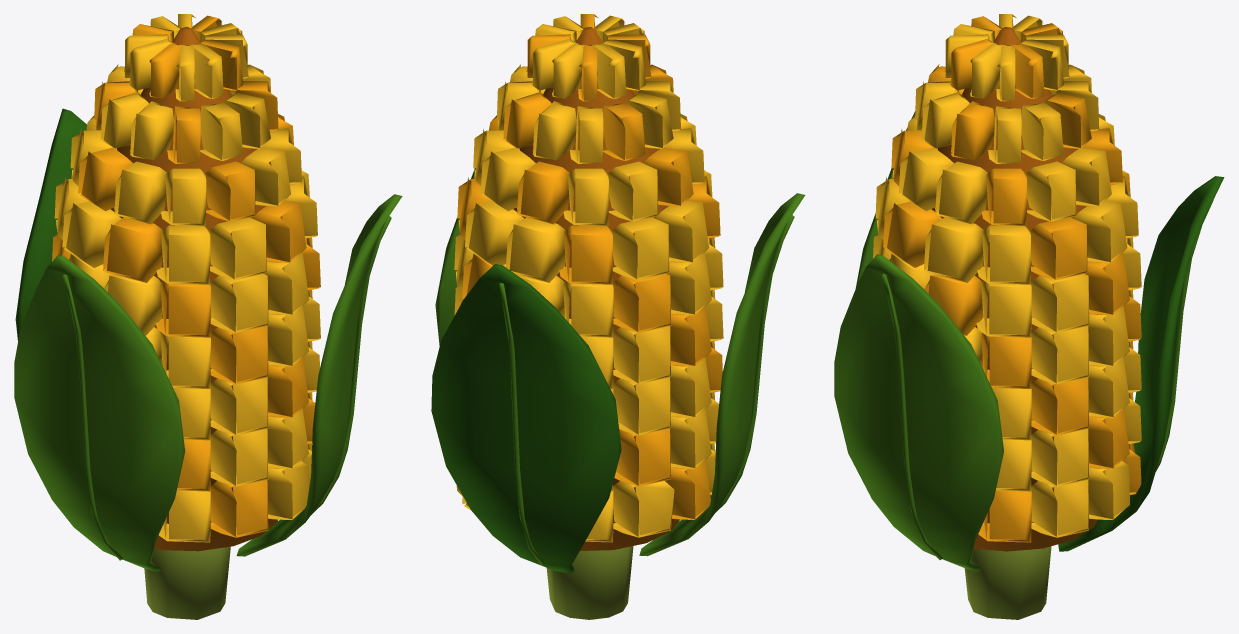
Rendered from corn.fbx.
The picture shows the model from 3 angles, left to right: view 1: azimuth 30°, elevation 25°; view 2: azimuth 150°, elevation 25°; view 3: azimuth 270°, elevation 25°; orthographic projection.
Parts seen in each view (by area): view 1: corn.001; view 2: corn.001; view 3: corn.001.
Boxes of the visible parts, x1,y1,x2,y2 form: corn.001: [14, 14, 402, 619]; corn.001: [431, 14, 805, 619]; corn.001: [834, 14, 1224, 619].
Size of the model in its own units: 60.43 by 100 by 61.54.
1 material, 1 textured.
